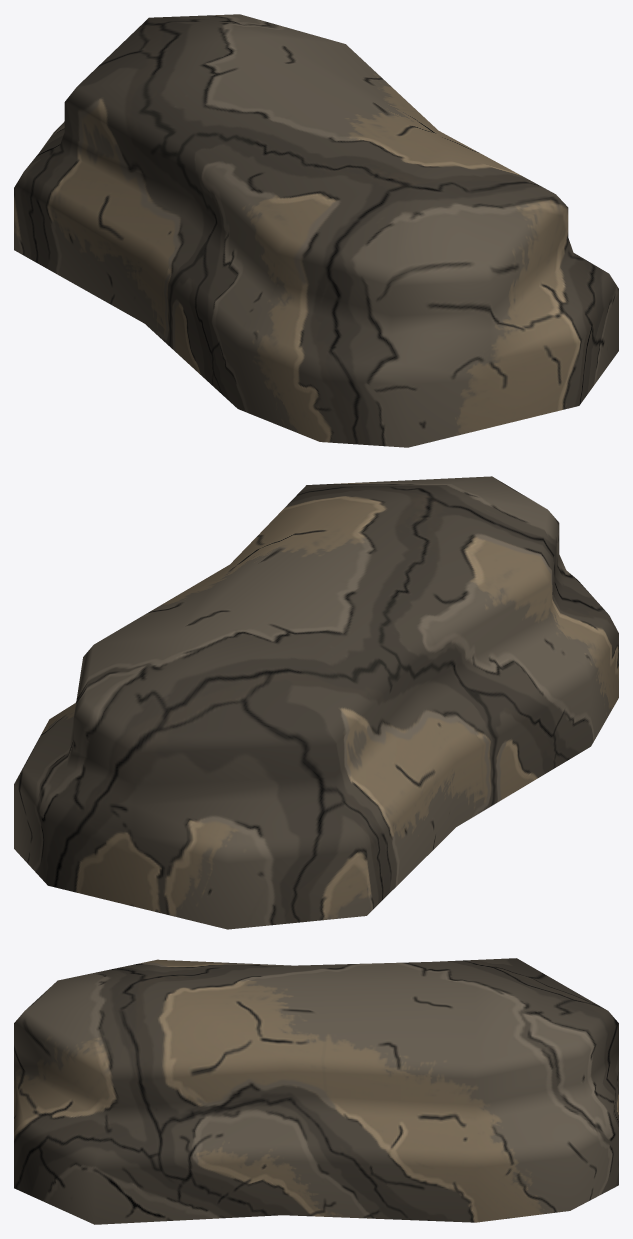
Rendered from mod_env_nature_cliff_05.fbx.
The picture shows the model from 3 angles, top to bottom: view 1: azimuth 30°, elevation 25°; view 2: azimuth 150°, elevation 25°; view 3: azimuth 270°, elevation 25°; orthographic projection. The views are drawn at different scales.
Visible parts, largest first — view 1: polySurface3; view 2: polySurface3; view 3: polySurface3.
Part boxes in pixels (bbox=[...]): polySurface3: bbox=[14, 14, 618, 447]; polySurface3: bbox=[14, 476, 618, 929]; polySurface3: bbox=[14, 958, 618, 1224].
Bounding box in the file's own units: 2119 × 1118 × 3639.
